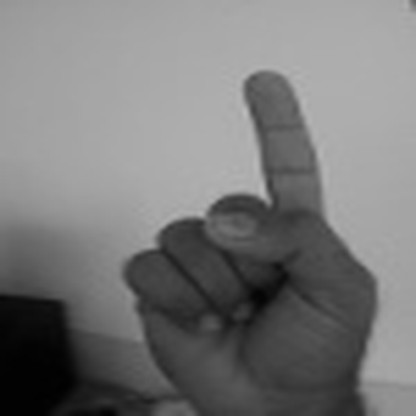d: (121, 66, 377, 401)
